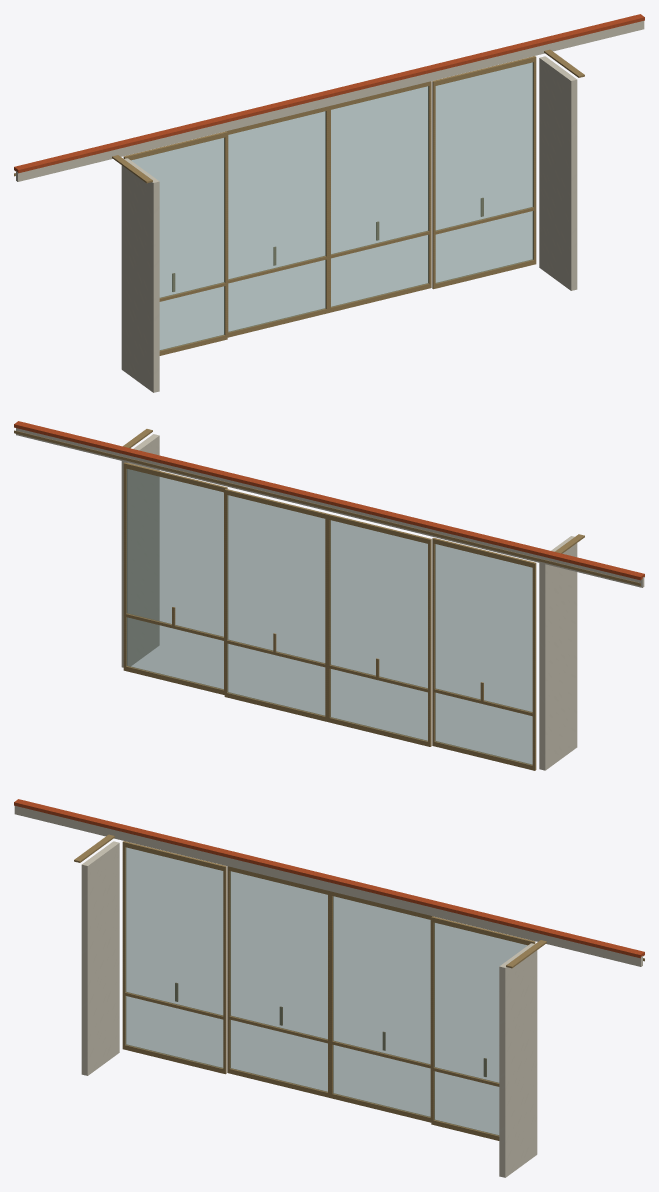
Rendered from large_foyer_8m_deep_r002.glb.
The picture shows the model from 3 angles, top to bottom: view 1: azimuth 30°, elevation 25°; view 2: azimuth 150°, elevation 25°; view 3: azimuth 330°, elevation 25°; orthographic projection.
Visible parts, largest first — view 1: Panel_R0_glass, Panel_L1_glass, Panel_R1_glass, Panel_L0_glass, track_pocket_reveal_R, track_pocket_reveal_L, track_back, track_cap, Panel_R0_stile_right, Panel_R0_stile_left, Panel_L0_stile_right, Panel_R1_stile_right (+7 smaller); view 2: Panel_R1_glass, Panel_L0_glass, Panel_L1_glass, Panel_R0_glass, track_pocket_reveal_L, track_pocket_reveal_R, track_cap, track_back, track_brass, Panel_L0_stile_left, Panel_R1_stile_right, Panel_L1_stile_left (+12 smaller); view 3: Panel_L0_glass, Panel_R1_glass, Panel_L1_glass, Panel_R0_glass, track_pocket_reveal_L, track_pocket_reveal_R, track_back, track_cap, Panel_L0_stile_left, Panel_L0_stile_right, Panel_R0_stile_left, Panel_L1_stile_left (+7 smaller).
Boxes of the visible parts, box(x1,y1,x2,y2) form: Panel_R0_glass: box(435, 62, 533, 283); Panel_L1_glass: box(228, 111, 325, 332); Panel_R1_glass: box(331, 86, 428, 307); Panel_L0_glass: box(131, 138, 224, 350); track_pocket_reveal_R: box(539, 56, 577, 290); track_pocket_reveal_L: box(121, 158, 159, 392); track_back: box(16, 21, 644, 181); track_cap: box(14, 14, 644, 173); Panel_R0_stile_right: box(532, 56, 536, 264); Panel_R0_stile_left: box(432, 80, 435, 289); Panel_L0_stile_right: box(224, 131, 227, 339); Panel_R1_stile_right: box(428, 81, 431, 288); Panel_R1_glass: box(227, 495, 325, 715); Panel_L0_glass: box(435, 544, 532, 764); Panel_L1_glass: box(330, 520, 427, 741); Panel_R0_glass: box(126, 469, 223, 689); track_pocket_reveal_L: box(539, 536, 577, 770); track_pocket_reveal_R: box(121, 434, 159, 667); track_cap: box(14, 421, 644, 580); track_back: box(16, 428, 644, 587); track_brass: box(14, 430, 640, 585); Panel_L0_stile_left: box(532, 562, 536, 770); Panel_R1_stile_right: box(224, 489, 228, 697); Panel_L1_stile_left: box(428, 538, 431, 746); Panel_L0_glass: box(125, 847, 223, 1068); Panel_R1_glass: box(333, 896, 430, 1117); Panel_L1_glass: box(230, 871, 327, 1092); Panel_R0_glass: box(434, 923, 527, 1135); track_pocket_reveal_L: box(81, 841, 119, 1075); track_pocket_reveal_R: box(499, 943, 537, 1177); track_back: box(14, 806, 642, 966); track_cap: box(14, 799, 644, 958); Panel_L0_stile_left: box(122, 841, 126, 1049); Panel_L0_stile_right: box(223, 865, 226, 1074); Panel_R0_stile_left: box(431, 916, 434, 1124); Panel_L1_stile_left: box(227, 866, 230, 1073).
Size of the model in its own units: 12.18 by 4.14 by 1.35.
Materials: 4 (3 with a texture image).
